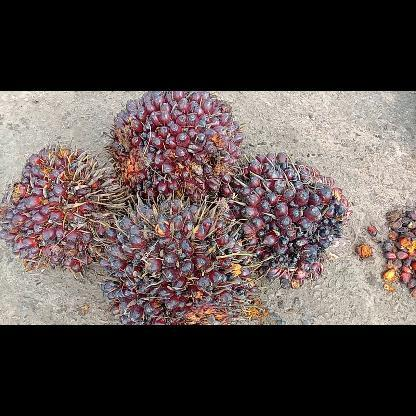Kurang masak: (96, 190, 266, 324), (220, 150, 354, 294), (0, 140, 134, 280)
TBS masak: (104, 90, 246, 208)
